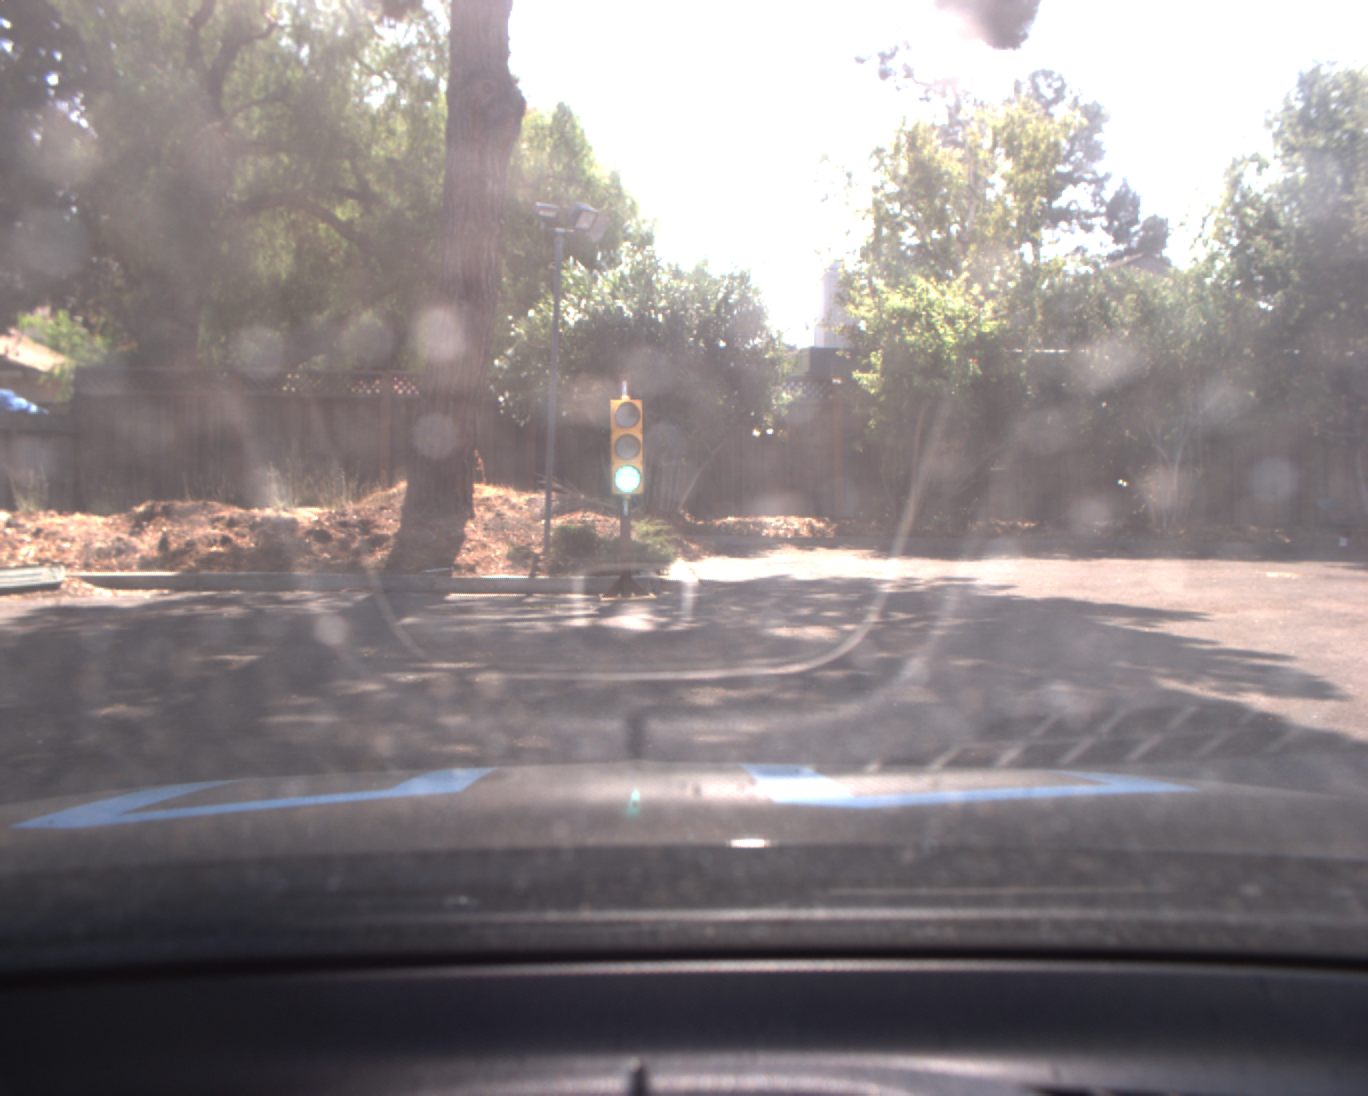green: (606, 393, 648, 498)
